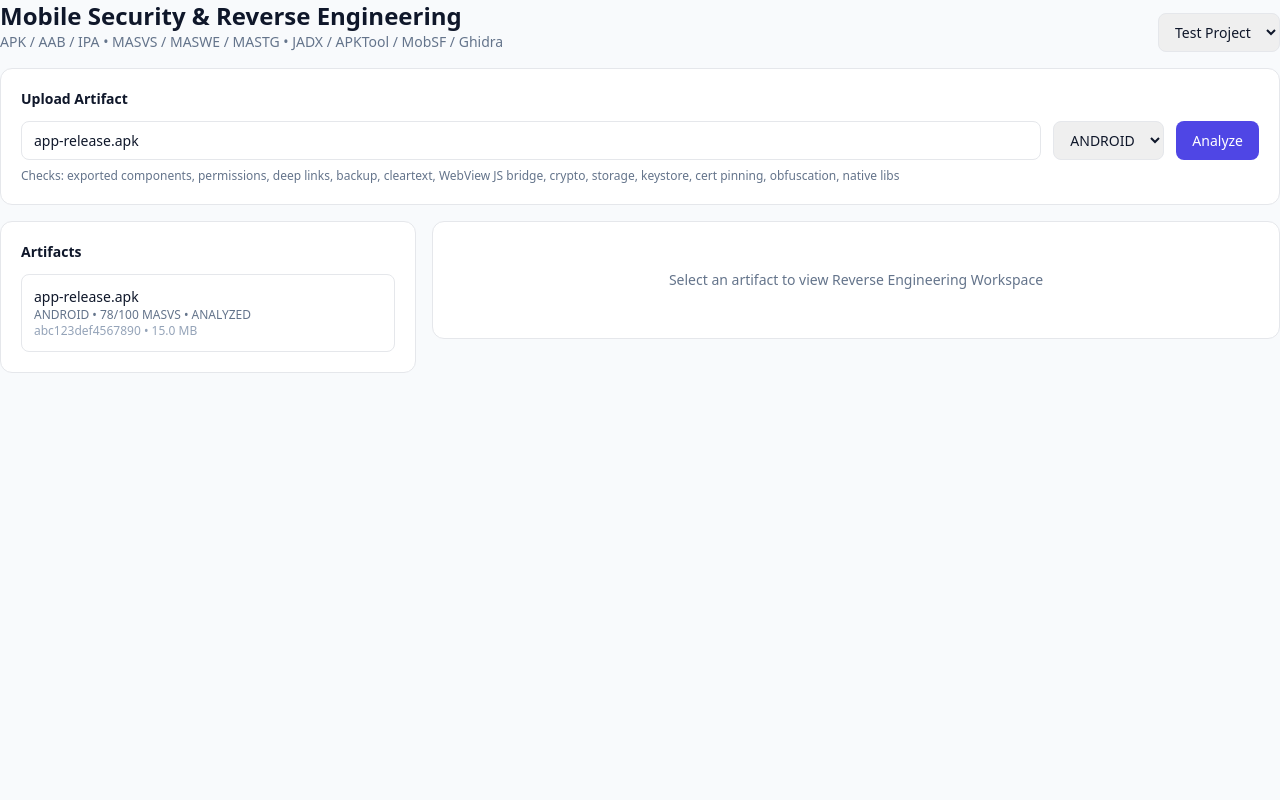
Scenario: Mobile › clicks artifact to open workspace
This screenshot has width=1280, height=800.
Expected: the text "app-release.apk" is shown, x1=34 y1=287 x2=139 y2=306
What coordinates should you click on to do the following:
click the text "app-release.apk"
I would click on:
 (208, 313)
Its box is x1=21 y1=274 x2=395 y2=352.
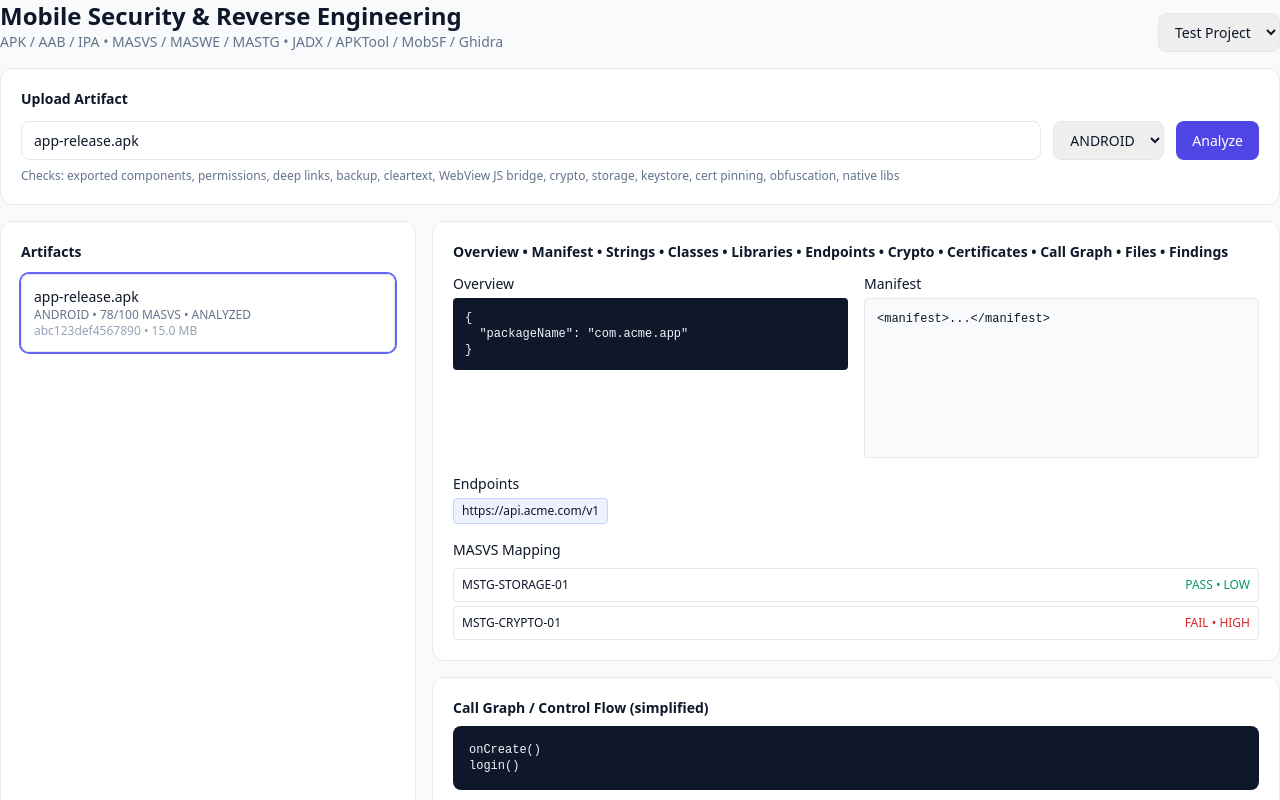
Expected: the 4th heading is shown, x1=453 y1=242 x2=1228 y2=261
Expected: the text "https://api.acme.com/v1" is shown, x1=453 y1=498 x2=608 y2=524
Expected: the text "MSTG-STORAGE-01" is shown, x1=462 y1=577 x2=569 y2=593
